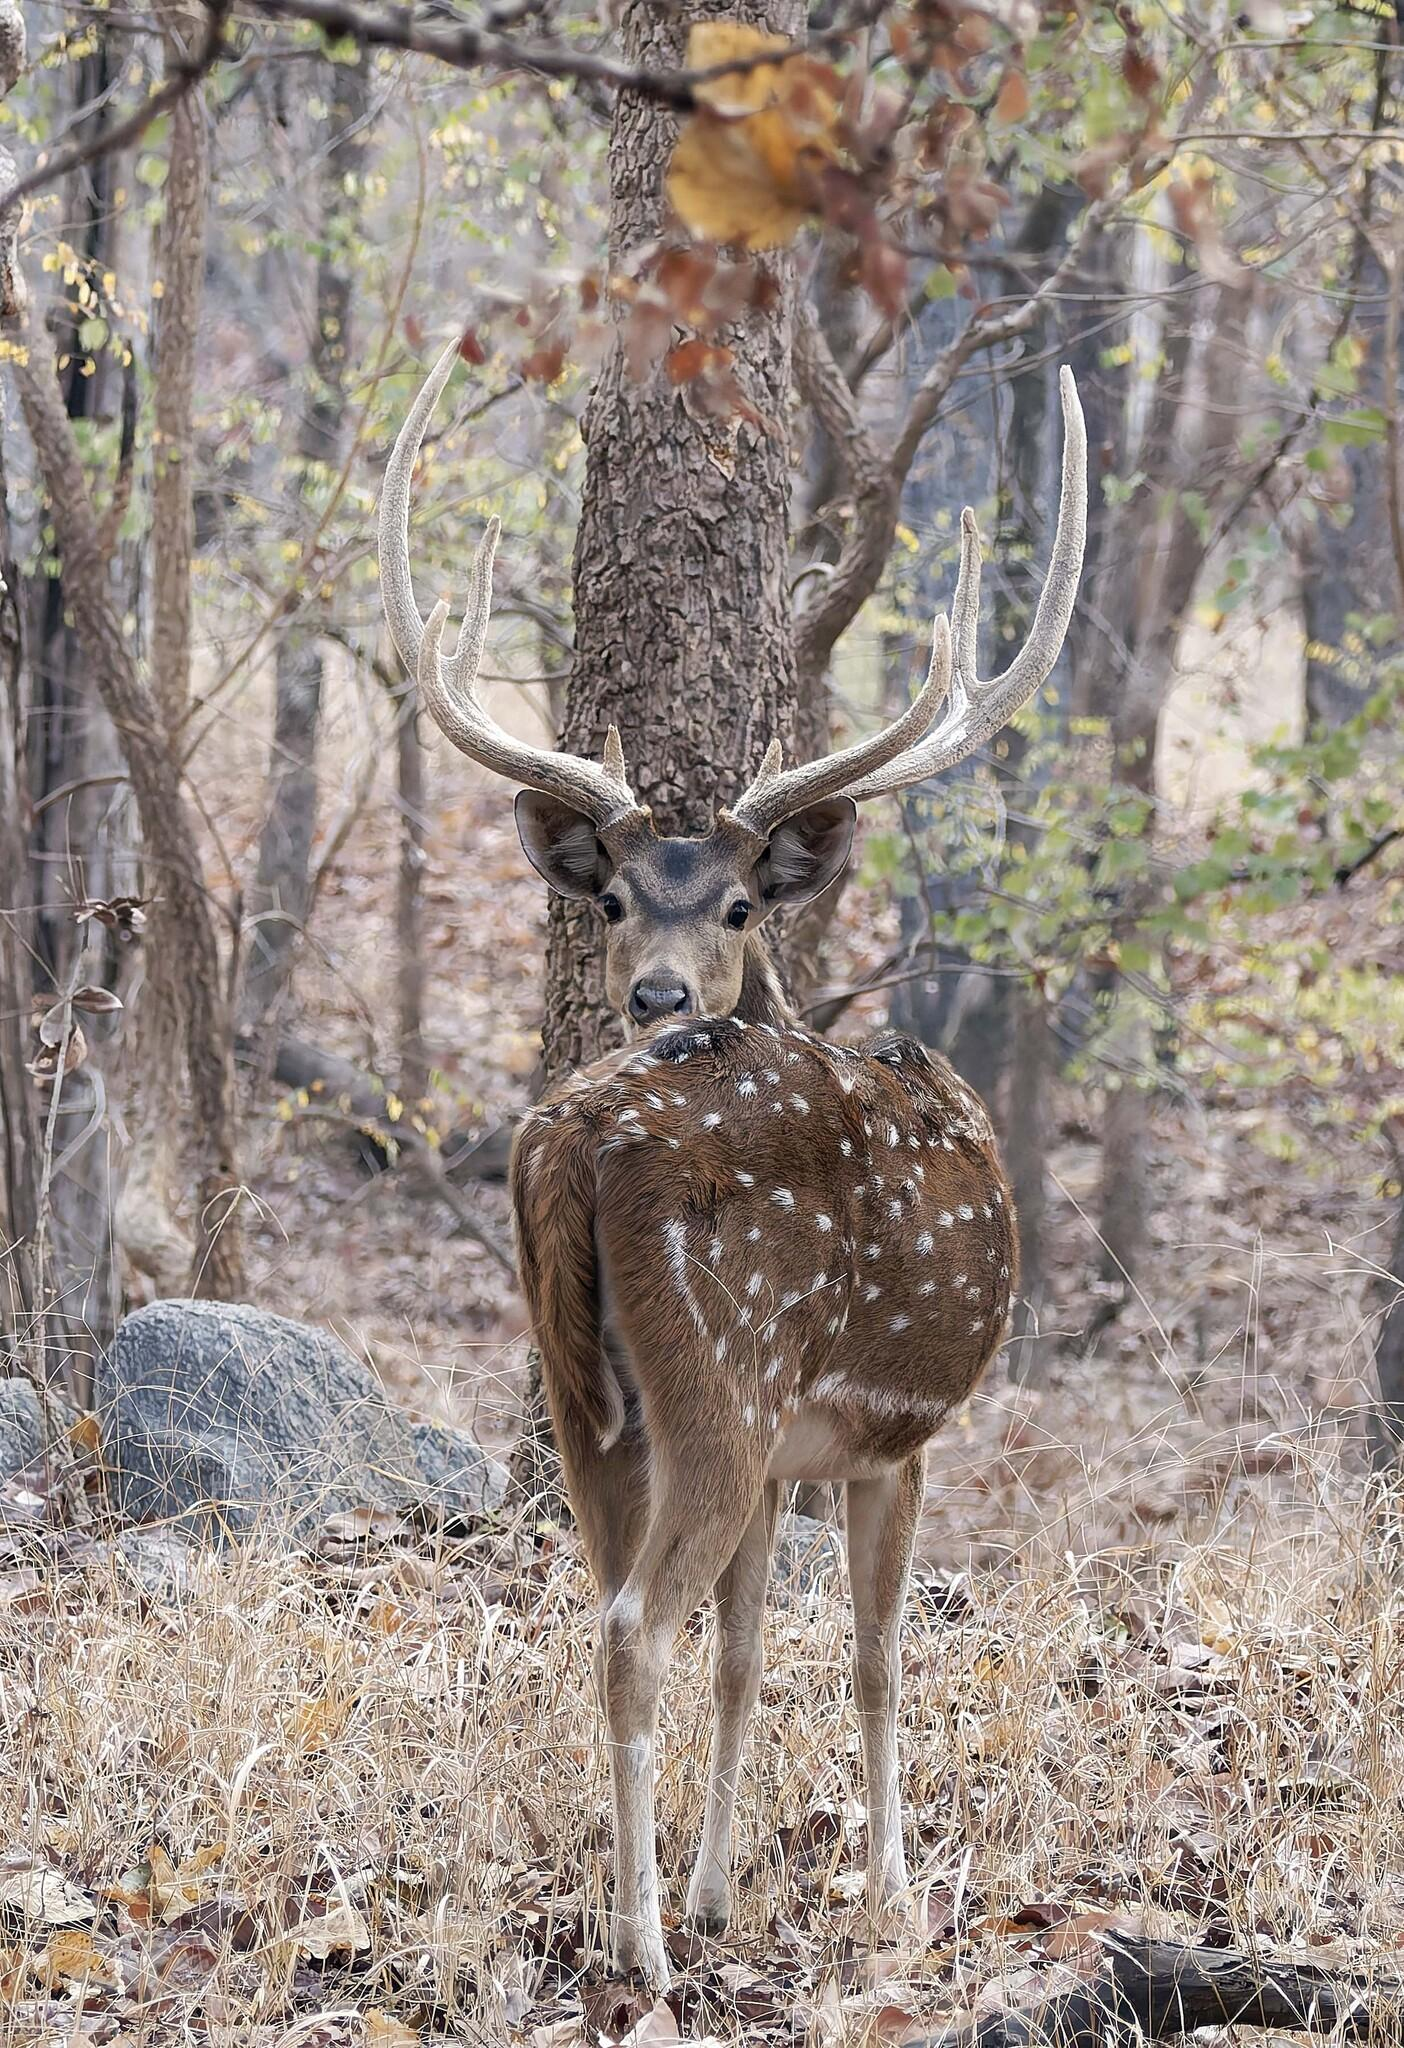Deer: (380, 339, 1086, 1983)
